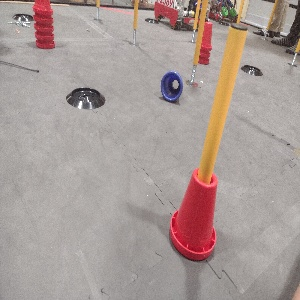Red_1: (167, 164, 220, 262), (198, 19, 212, 64)
Red_3: (32, 0, 56, 48)
